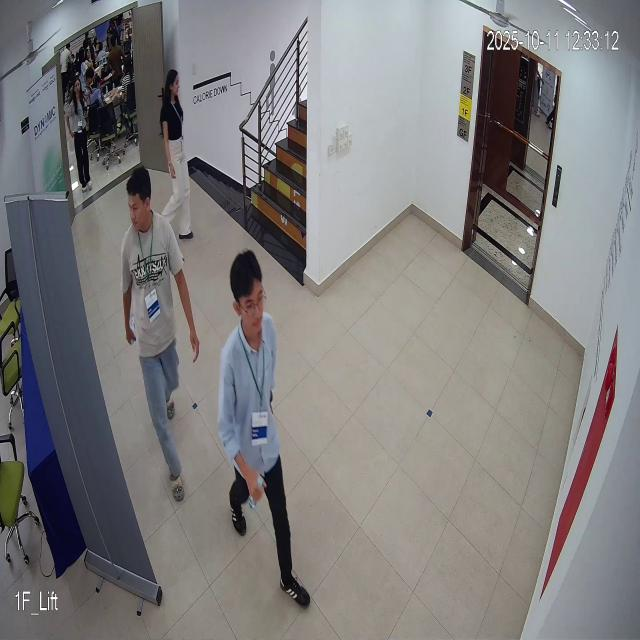face: (229, 244, 268, 339), (119, 160, 156, 233)
